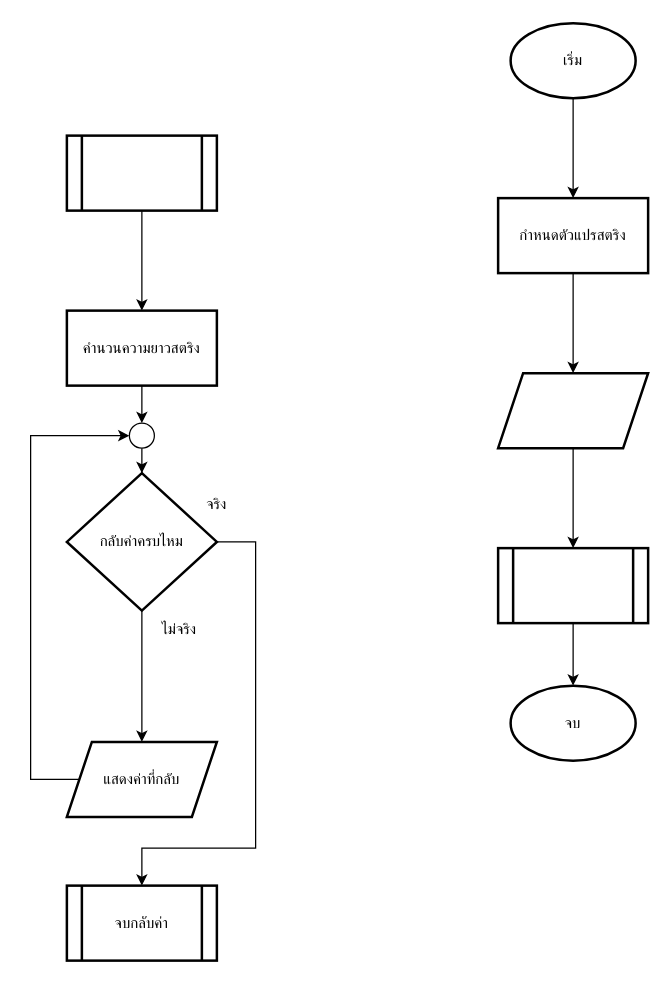
This 671x983 diagram has some shape labels left out. Each missing label, with the box of its shape:
กรอกข้อความ: (496, 371, 649, 449)
กลับค่า: (496, 546, 649, 624)
เริ่มกลับค่า: (65, 134, 218, 211)
